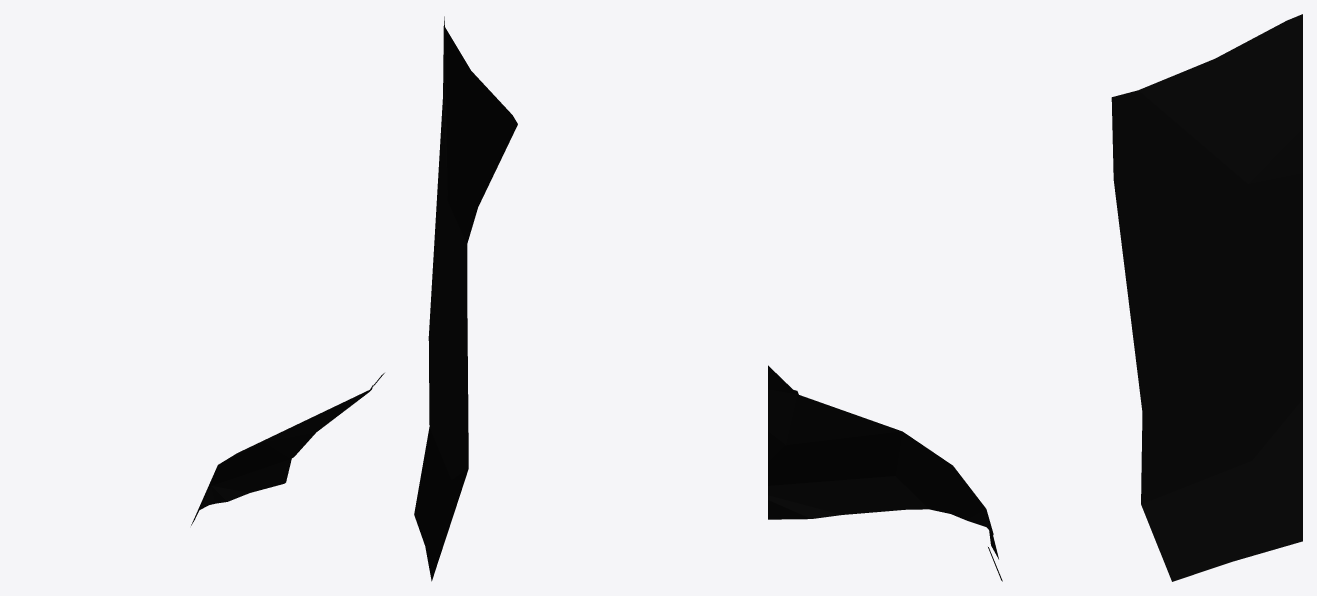
The picture shows the model from 3 angles, left to right: view 1: azimuth 30°, elevation 25°; view 2: azimuth 150°, elevation 25°; view 3: azimuth 270°, elevation 25°; orthographic projection. The views are drawn at different scales.
Bounding box in the file's own units: 2.17 × 5.9 × 5.9.
2 materials, 2 textured.
